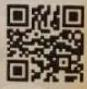qrcode: (7, 5, 85, 84)
